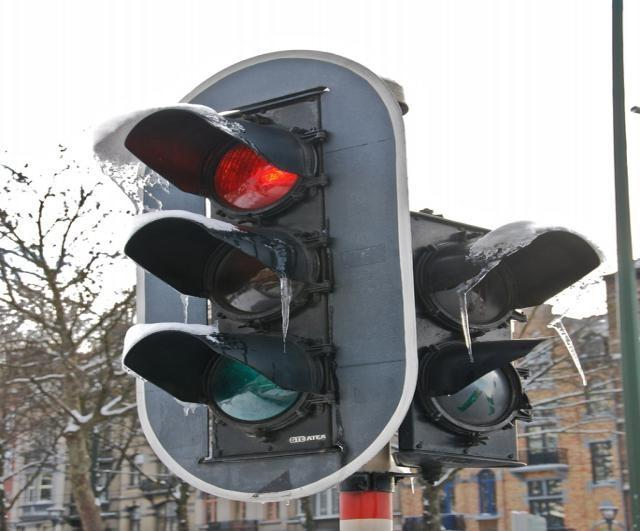red_light: (121, 49, 417, 503)
